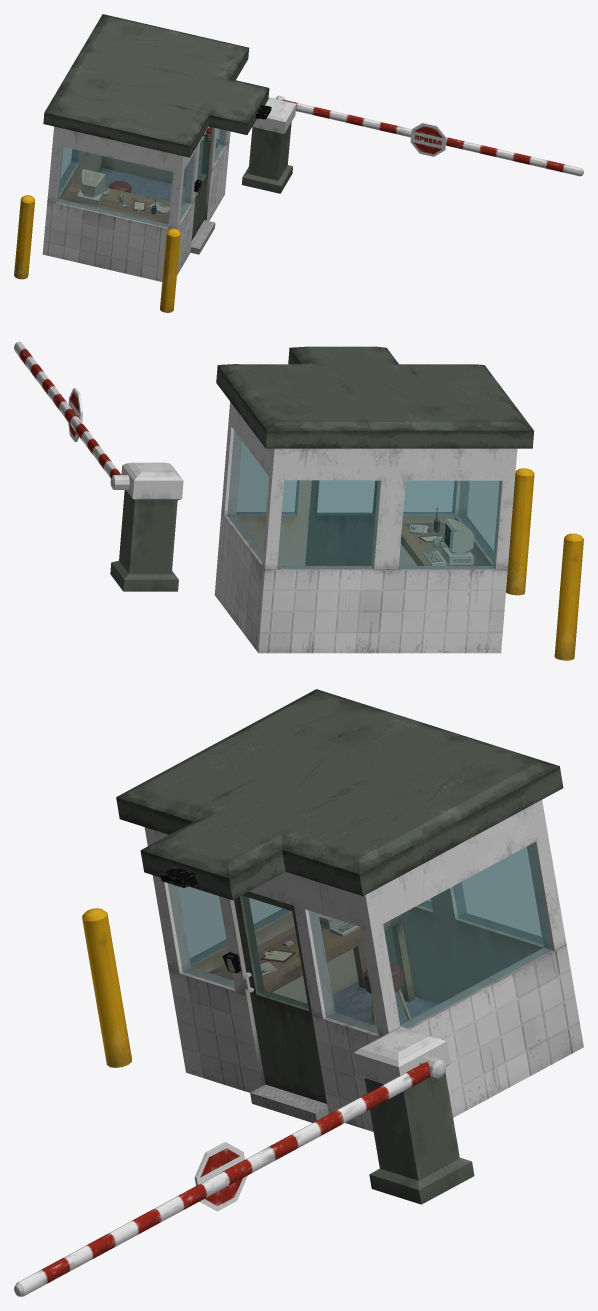
Rendered from Guard_Post.glb.
3 views of the same model, one above another, from view 1: azimuth 30°, elevation 25°; view 2: azimuth 150°, elevation 25°; view 3: azimuth 270°, elevation 25° (orthographic). The views are drawn at different scales.
Parts seen in each view (by area): view 1: Booth_GuardPost_0, Window_5, Gate_Arm_Controller, Gate_Arm_GuardPost_0, Desk_MiscObjects_0, Stopping_Post_GuardPost_0, Stopping_Post_2_GuardPost_0, Floor, Sign, Door, Monitor, Window_6 (+1 smaller); view 2: Booth_GuardPost_0, Window_3, Window_4, Gate_Arm_Controller, Door, Window_2, Stopping_Post_GuardPost_0, Stopping_Post_2_GuardPost_0, Window_5, Window, Gate_Arm_GuardPost_0, Window_7 (+4 smaller); view 3: Booth_GuardPost_0, Window_2, Gate_Arm_Controller, Door, Gate_Arm_GuardPost_0, Window, Window_3, Window_7, Window_6, Stopping_Post_2_GuardPost_0, Desk_MiscObjects_0, Window_5 (+2 smaller).
Part boxes in pixels (x1,y1,x2,y2): Booth_GuardPost_0: (42,14,269,281); Window_5: (57,147,172,227); Gate_Arm_Controller: (241,97,296,193); Gate_Arm_GuardPost_0: (275,95,583,176); Desk_MiscObjects_0: (62,180,181,223); Stopping_Post_GuardPost_0: (14,195,35,279); Stopping_Post_2_GuardPost_0: (160,228,180,312); Floor: (99,167,185,205); Sign: (410,122,446,156); Door: (191,127,212,240); Monitor: (80,169,105,197); Window_6: (180,152,194,220); Booth_GuardPost_0: (214,346,533,653); Window_3: (277,480,379,568); Window_4: (399,481,501,568); Gate_Arm_Controller: (110,462,183,591); Door: (305,480,377,565); Window_2: (227,430,268,560); Stopping_Post_GuardPost_0: (554,533,583,660); Stopping_Post_2_GuardPost_0: (506,468,534,595); Window_5: (458,481,498,561); Window: (237,442,298,514); Gate_Arm_GuardPost_0: (14,341,129,489); Window_7: (317,480,376,514); Booth_GuardPost_0: (116,689,583,1131); Window_2: (383,843,551,1027); Gate_Arm_Controller: (353,1026,474,1204); Door: (234,891,326,1103); Gate_Arm_GuardPost_0: (14,1055,446,1296); Window: (309,911,377,1033); Window_3: (453,847,542,944); Window_7: (242,895,308,1008); Window_6: (168,883,234,988); Stopping_Post_2_GuardPost_0: (82,908,131,1067); Desk_MiscObjects_0: (209,914,414,1002); Window_5: (178,887,289,964).
Size of the model in its own units: 620 by 237 by 349.
Materials: 3 (2 with a texture image).
